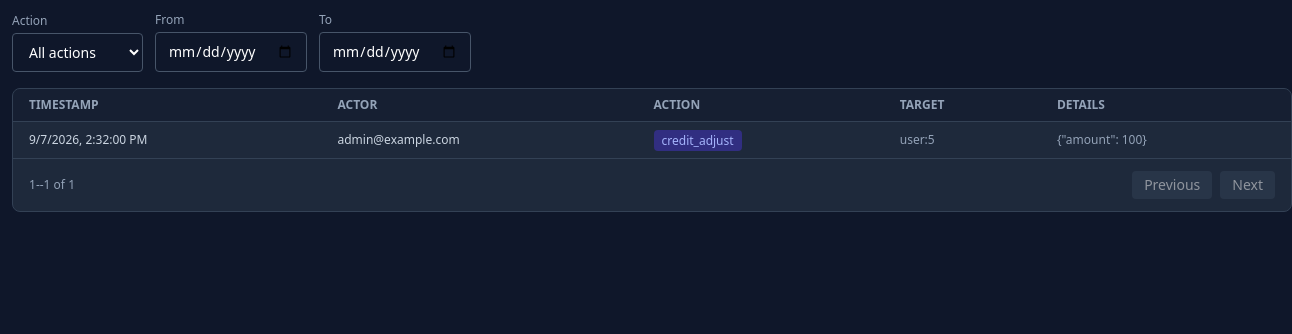
it: AdminAuditLogSection › details cell click expands to show full JSON
Note: Click to expand
Click the row with test id "audit-row-1". click: (652, 140)
box: [13,122,1291,158]
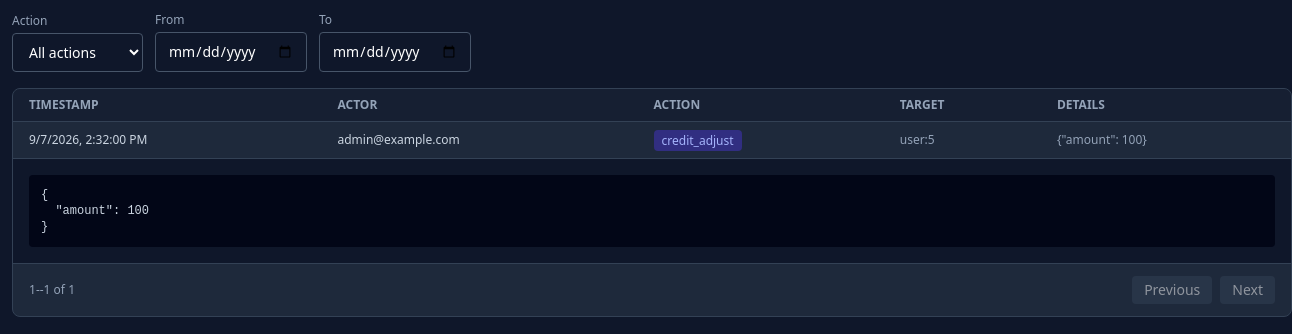
Now the row with test id "audit-detail-row-1" is shown, box [13,158,1291,263]
Now the text "{ \"amount\": 100 }" is shown, box [29,175,1275,247]
